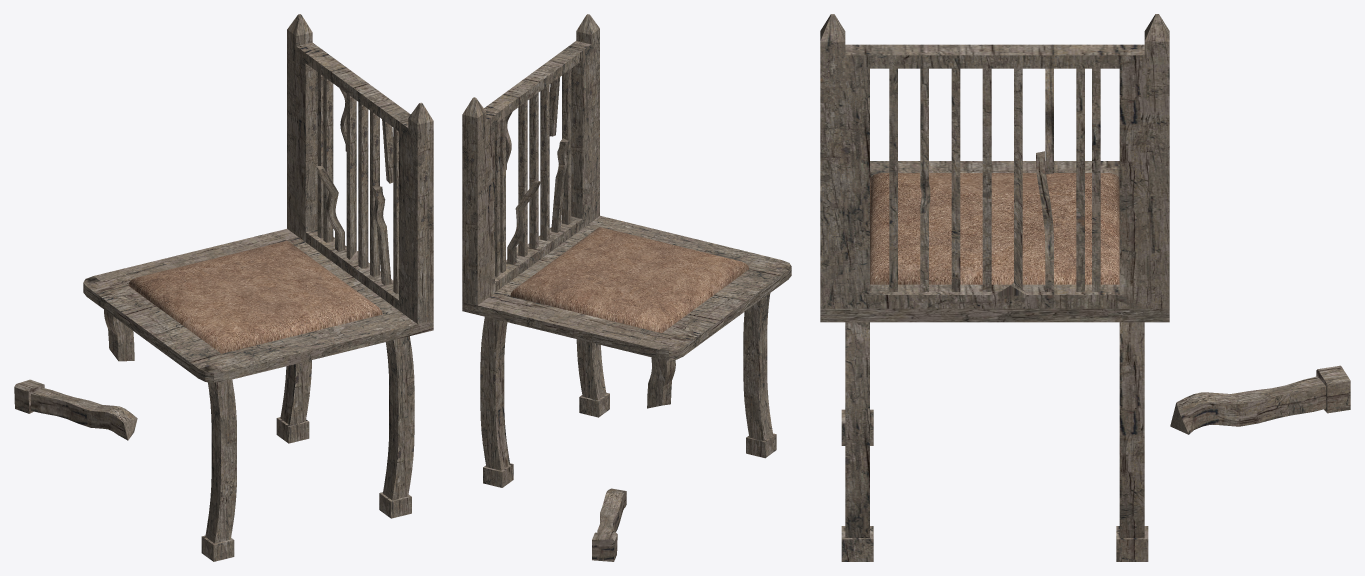
The model's file is BrokenChair.FBX.
3 renders of one model, left to right at view 1: azimuth 30°, elevation 25°; view 2: azimuth 150°, elevation 25°; view 3: azimuth 270°, elevation 25°, orthographic. The views are drawn at different scales.
Parts seen in each view (by area): view 1: BrokenChair, Leg; view 2: BrokenChair, Leg; view 3: BrokenChair, Leg.
Part boxes in pixels (bbox=[...]): BrokenChair: bbox=[83, 14, 433, 561]; Leg: bbox=[14, 379, 137, 440]; BrokenChair: bbox=[462, 14, 791, 487]; Leg: bbox=[592, 488, 626, 561]; BrokenChair: bbox=[820, 14, 1169, 561]; Leg: bbox=[1170, 365, 1350, 434].
Size of the model in its own units: 22.47 by 38.12 by 33.26.
